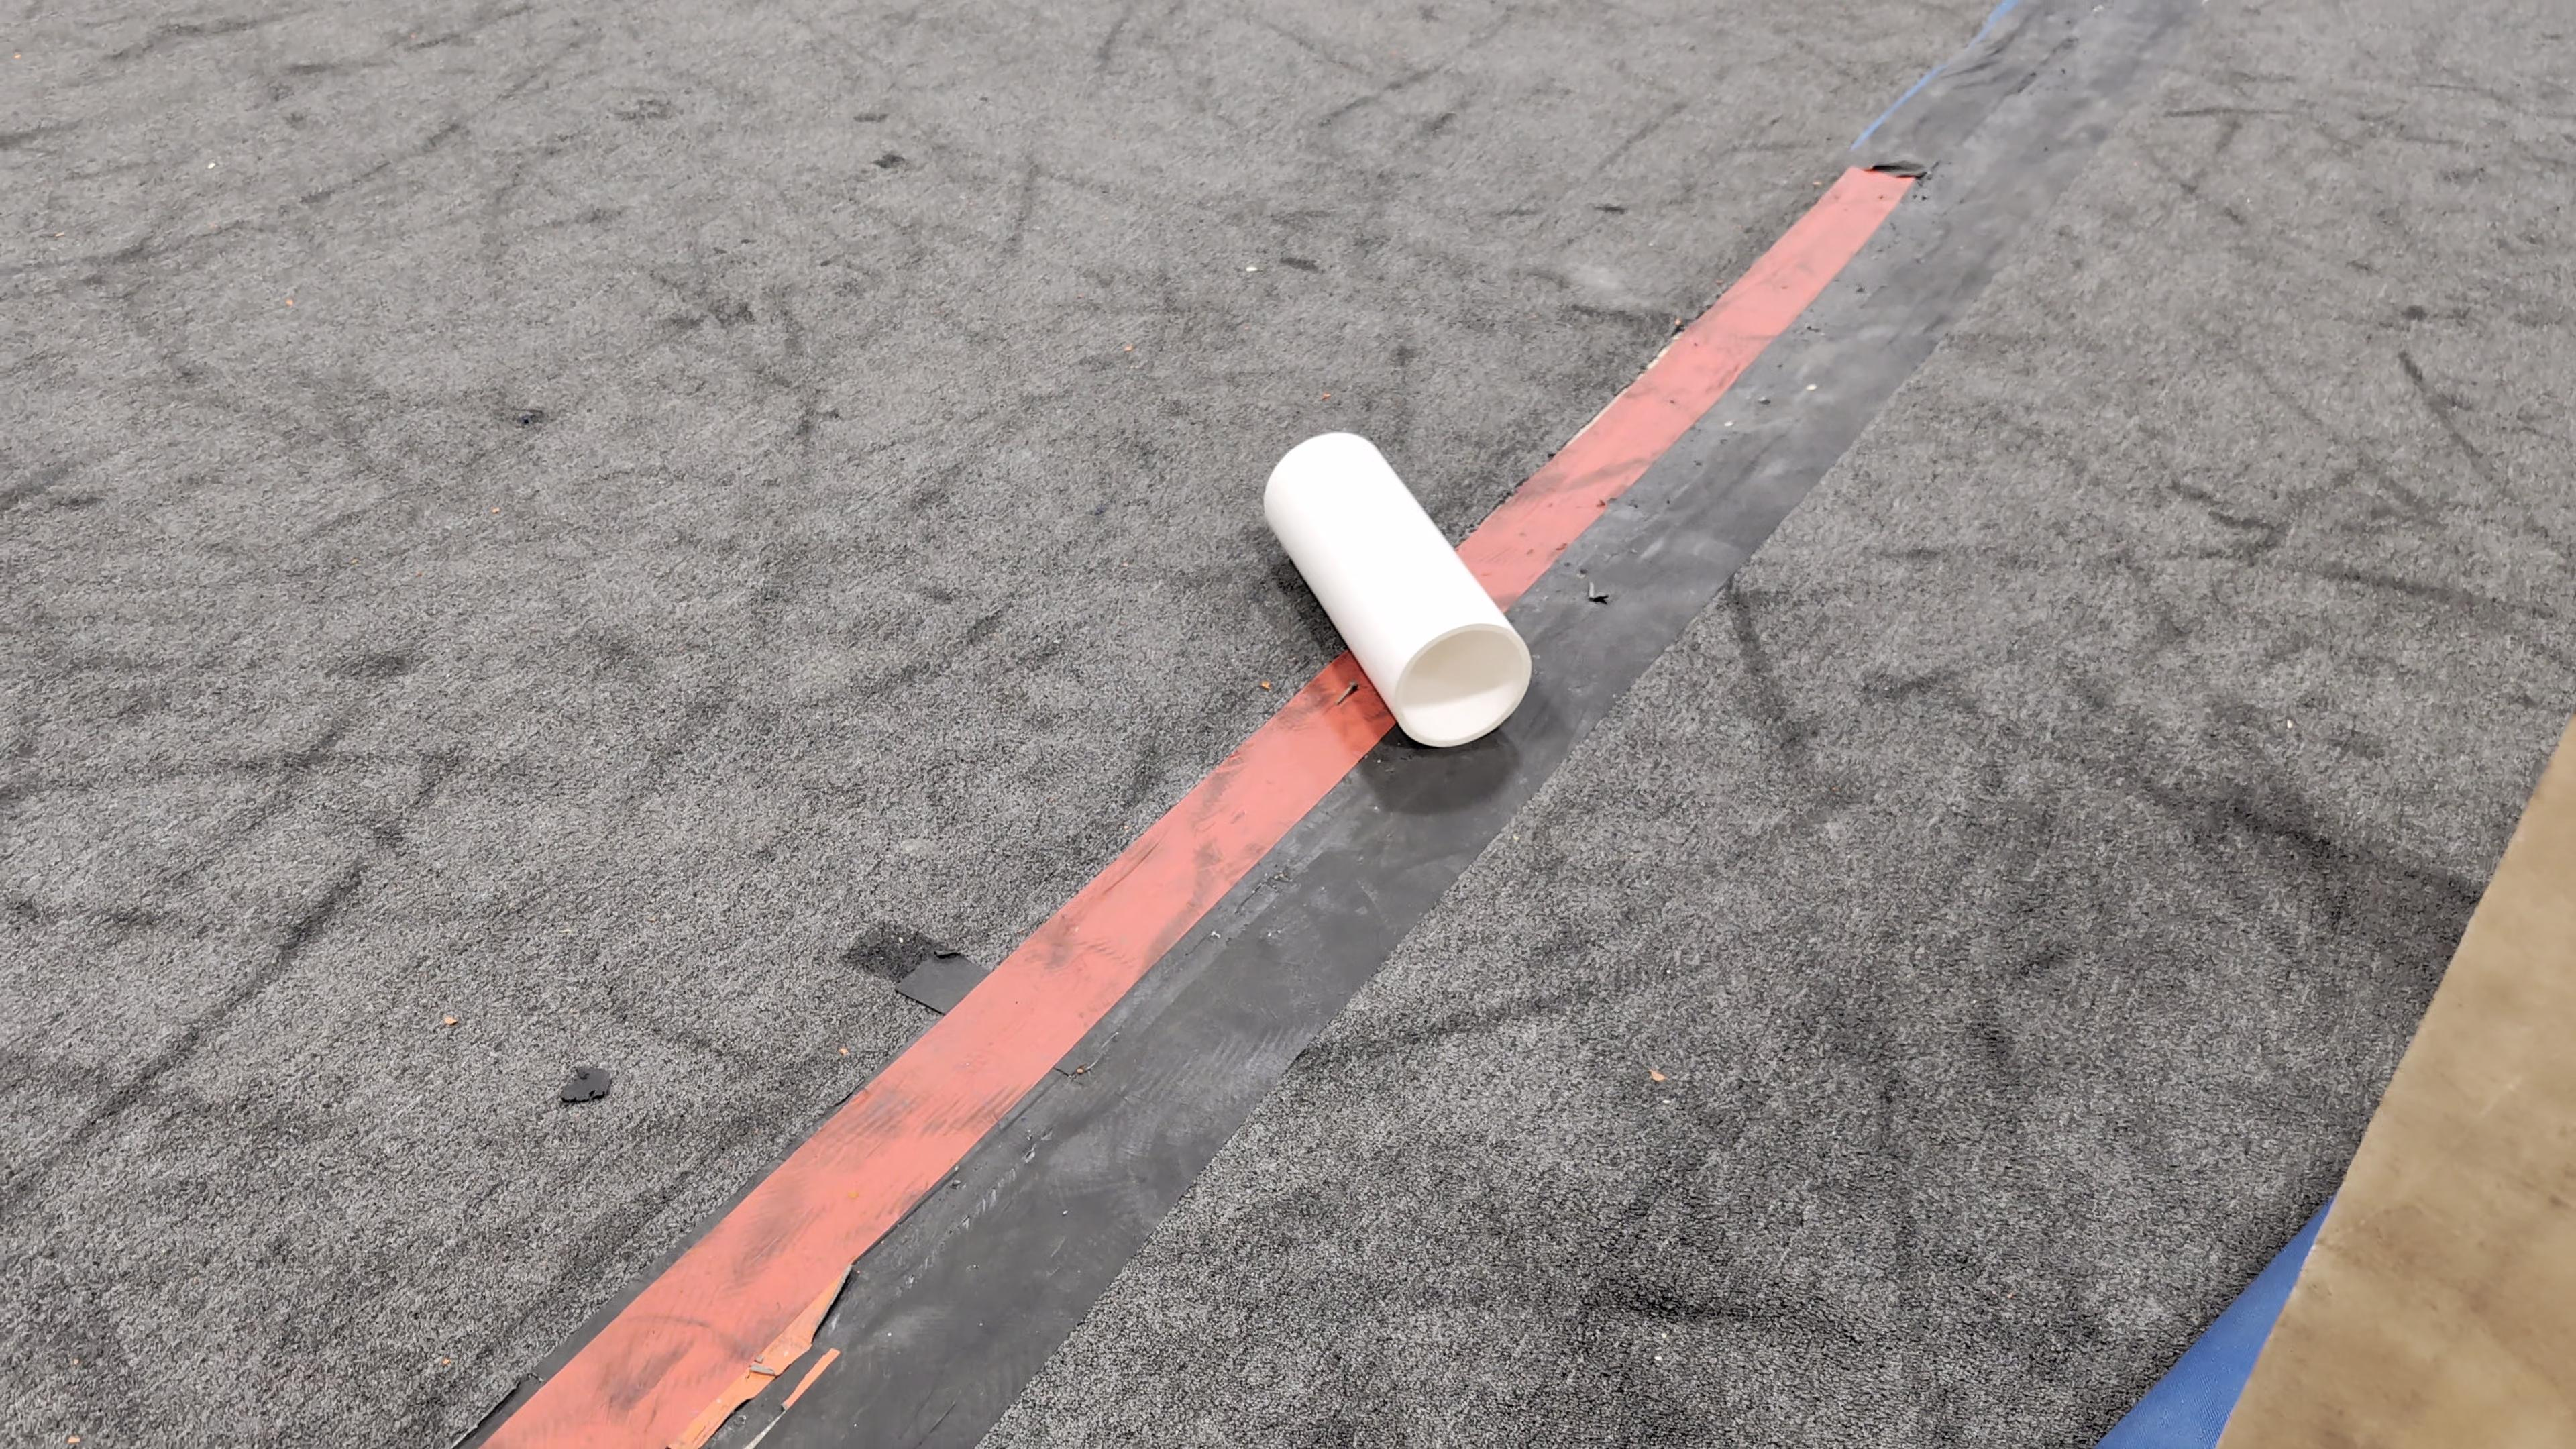coral: (1260, 425, 1536, 752)
